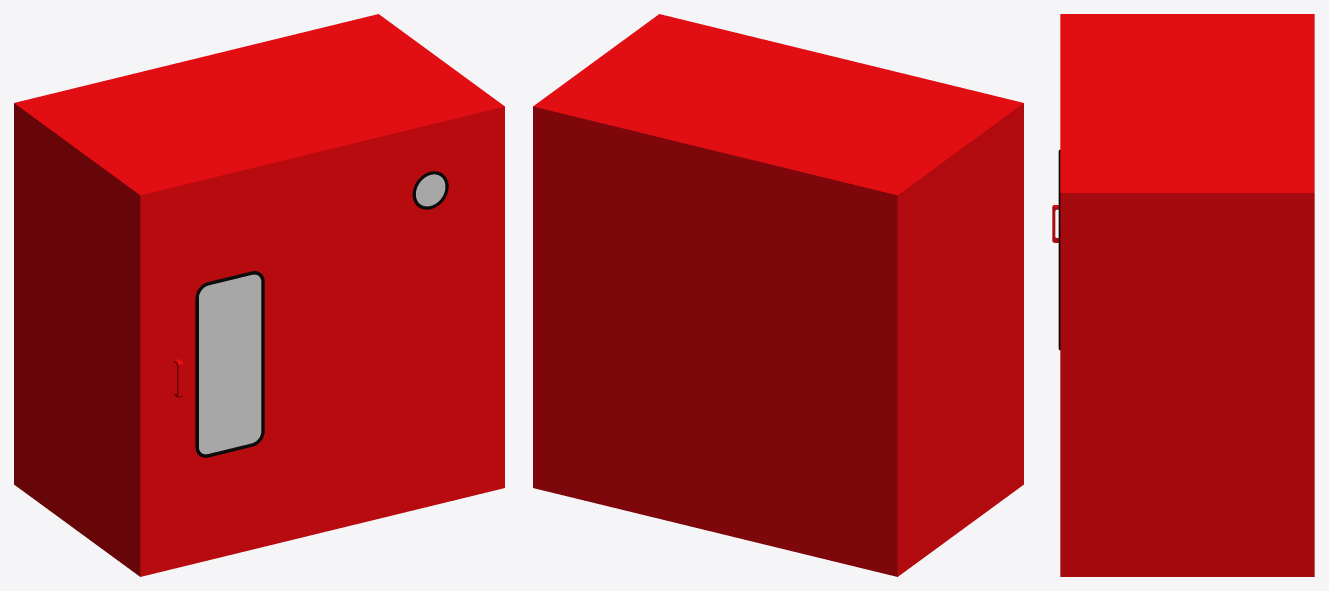
File: HoseReel.fbx
The picture shows the model from 3 angles, left to right: view 1: azimuth 30°, elevation 25°; view 2: azimuth 150°, elevation 25°; view 3: azimuth 270°, elevation 25°; orthographic projection.
Visible parts, largest first — view 1: ReelCabinet, ReelDoor, ReelGlass, ReelGlassFrame, KeyGlass; view 2: ReelCabinet; view 3: ReelCabinet, ReelGlassFrame.
Part boxes in pixels (x1,y1,x2,y2): ReelCabinet: [14, 14, 504, 576]; ReelDoor: [154, 124, 491, 559]; ReelGlass: [199, 274, 261, 454]; ReelGlassFrame: [195, 271, 264, 457]; KeyGlass: [416, 174, 445, 206]; ReelCabinet: [533, 14, 1023, 576]; ReelCabinet: [1060, 14, 1314, 576]; ReelGlassFrame: [1058, 150, 1060, 349].
Bounding box in the file's own units: 50 × 30.96 × 50.
